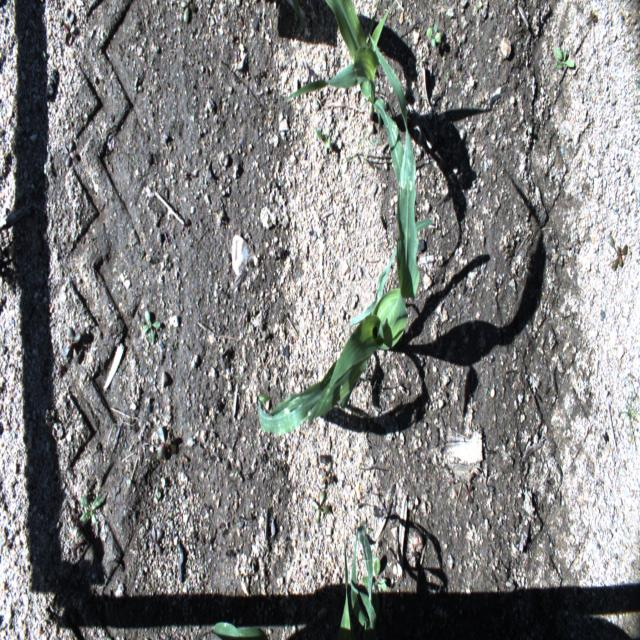crop: (258, 128, 432, 439), (285, 0, 407, 183), (340, 524, 377, 634), (211, 620, 267, 640)
weed: (619, 390, 638, 462), (363, 555, 387, 595), (79, 495, 104, 528), (142, 309, 160, 345), (310, 490, 328, 525), (610, 236, 628, 271), (314, 125, 332, 152), (554, 47, 575, 70), (425, 26, 442, 49), (180, 0, 196, 24)
